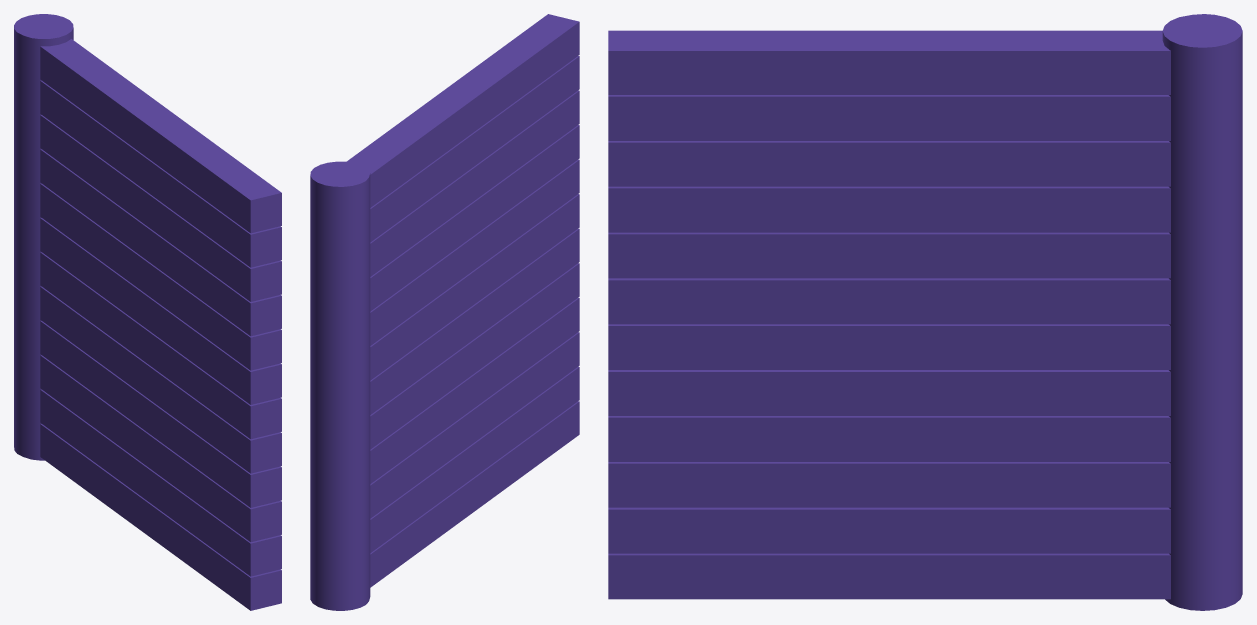
Rendered from pared.fbx.
The picture shows the model from 3 angles, left to right: view 1: azimuth 30°, elevation 25°; view 2: azimuth 150°, elevation 25°; view 3: azimuth 270°, elevation 25°; orthographic projection. The views are drawn at different scales.
Parts seen in each view (by area): view 1: pared; view 2: pared; view 3: pared.
Boxes of the visible parts, x1,y1,x2,y2 form: pared: (14, 14, 281, 610); pared: (310, 14, 579, 610); pared: (608, 14, 1242, 610).
Size of the model in its own units: 0.7409 by 5.76 by 5.87.
